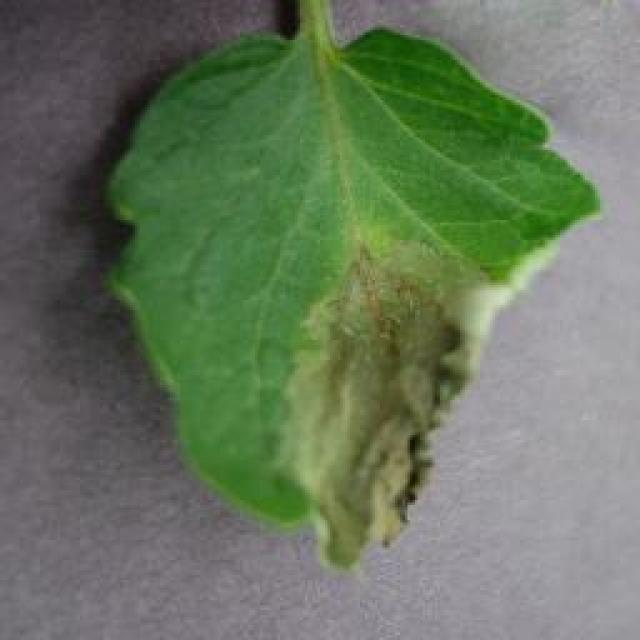Tomato late blight leaf: (108, 30, 602, 577)
